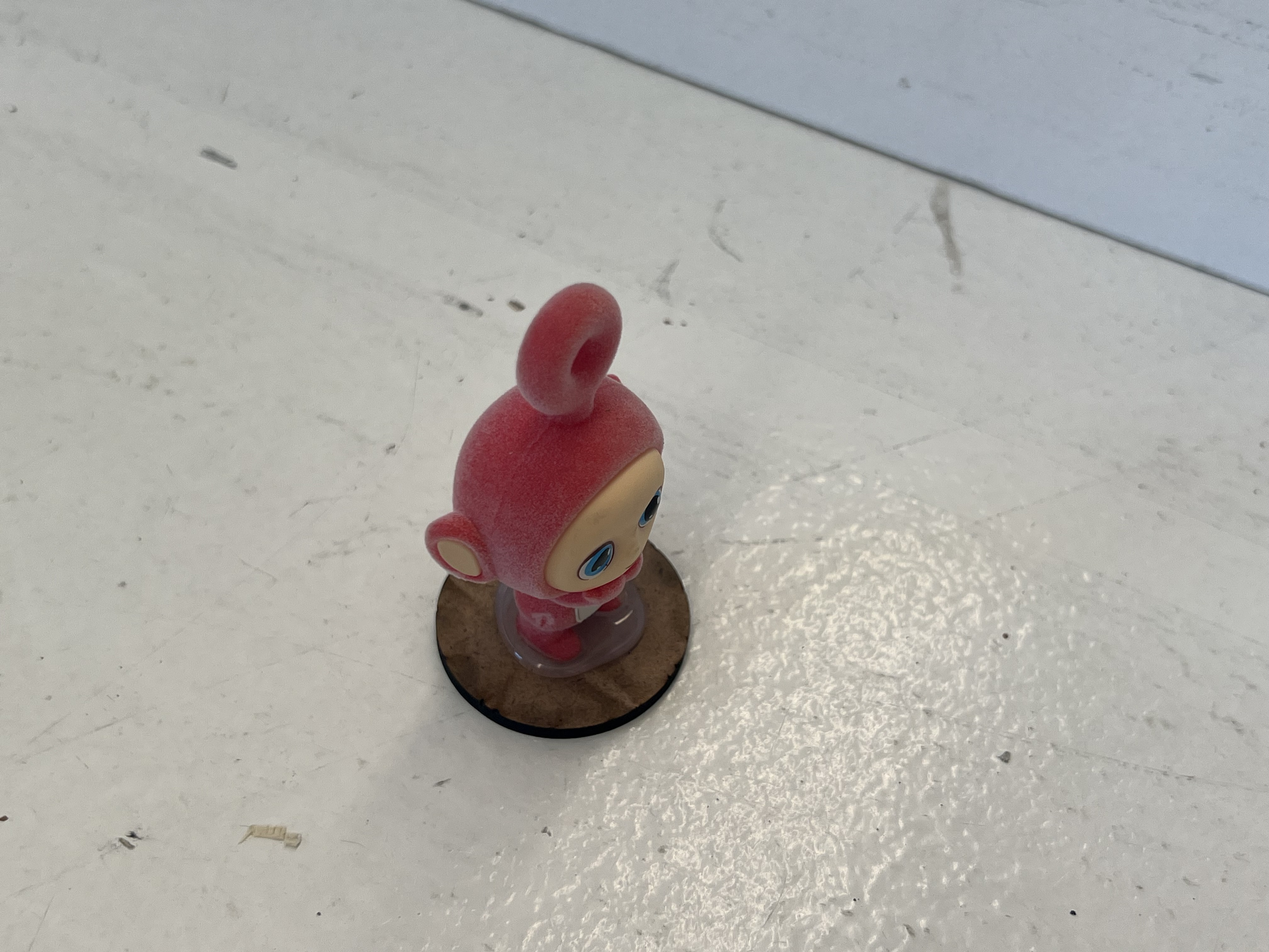teletubby: (426, 284, 664, 662)
